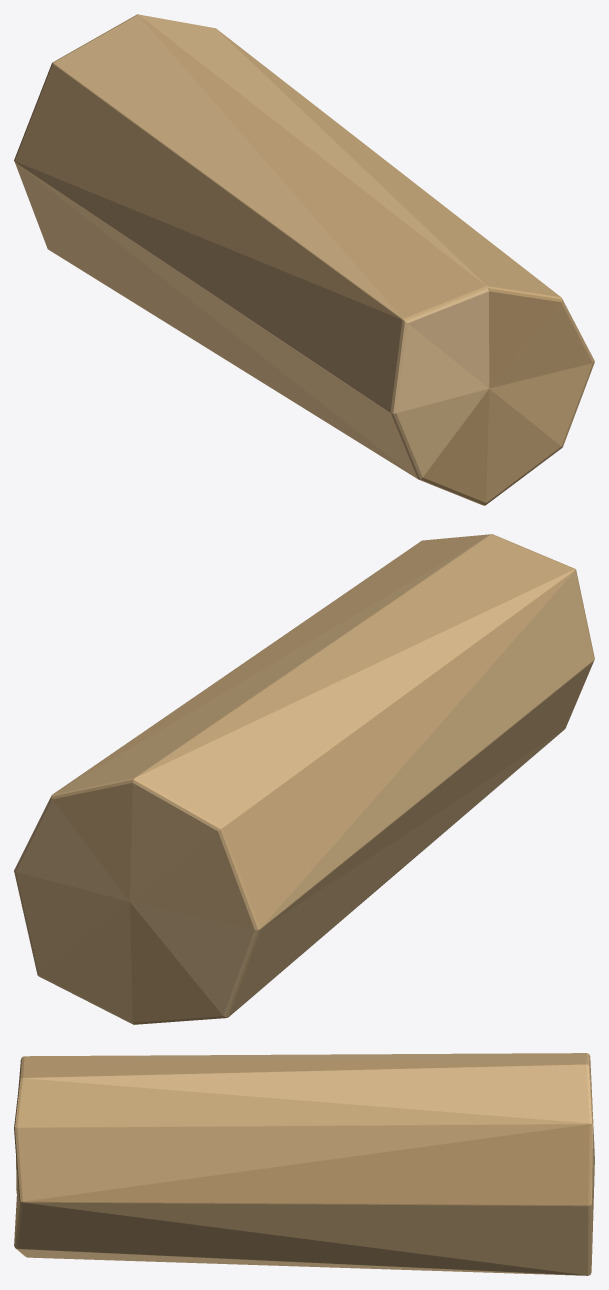
File: WoodLog_a.fbx
The picture shows the model from 3 angles, top to bottom: view 1: azimuth 30°, elevation 25°; view 2: azimuth 150°, elevation 25°; view 3: azimuth 270°, elevation 25°; orthographic projection. The views are drawn at different scales.
Parts seen in each view (by area): view 1: WoodLog_a; view 2: WoodLog_a; view 3: WoodLog_a.
Boxes of the visible parts, x1,y1,x2,y2 form: WoodLog_a: (14, 14, 594, 505); WoodLog_a: (14, 534, 594, 1024); WoodLog_a: (14, 1053, 594, 1275).
Size of what is drawn, in the model's own units: 0.3507 by 0.337 by 0.9076.
